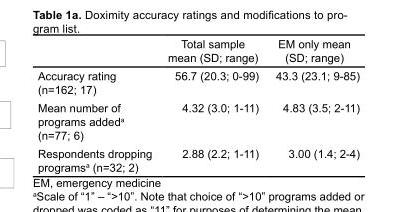table: (36, 37, 358, 173)
table column: (36, 37, 159, 173), (159, 37, 266, 173), (266, 37, 358, 173)
table column header: (36, 37, 358, 66)
table row: (36, 98, 358, 143), (36, 66, 358, 98), (36, 143, 358, 173), (36, 37, 358, 66)
